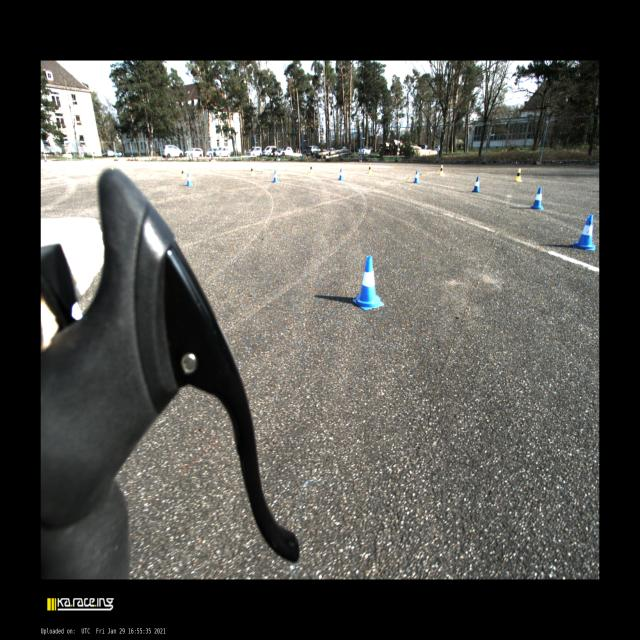blue_cone: (353, 256, 384, 310), (573, 214, 595, 251), (530, 187, 544, 210), (472, 177, 481, 192), (186, 173, 194, 186), (272, 170, 279, 182), (338, 168, 344, 180), (414, 170, 419, 183)
yellow_cone: (516, 168, 522, 182), (439, 164, 444, 176), (181, 169, 186, 178), (368, 164, 372, 174), (250, 167, 254, 175), (310, 165, 312, 173)
